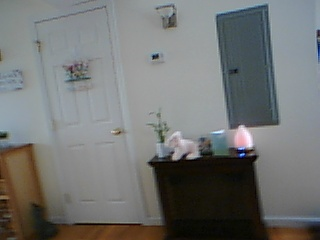piggy: (164, 130, 201, 161)
